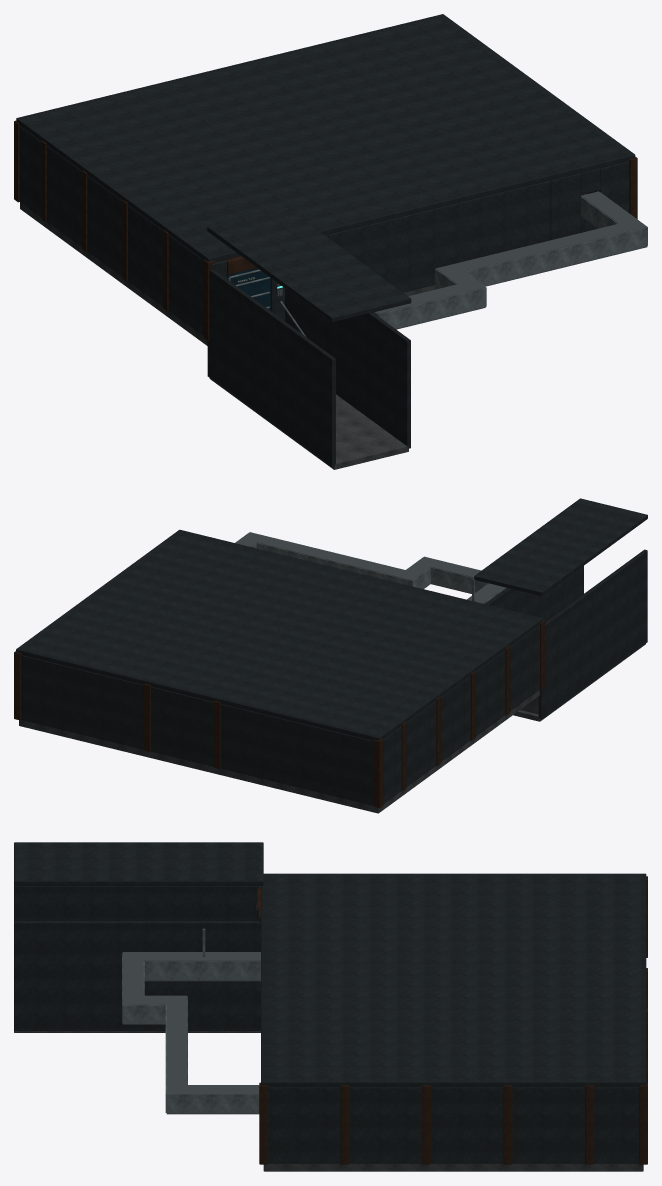
File: Porao_e_Sala_Secreta.glb
The picture shows the model from 3 angles, top to bottom: view 1: azimuth 30°, elevation 25°; view 2: azimuth 150°, elevation 25°; view 3: azimuth 270°, elevation 25°; orthographic projection. The views are drawn at different scales.
Visible parts, largest first — view 1: Teto_porao, Parede_corredor_oeste, Parede_estrutural, Parede_sul.001, Teto_escadaria, Parede_corredor_leste, Duto_tampa, Duto_parede.003, Laje_corredor, Duto_parede.001, Parede_sul.002, Laje_porao (+2 smaller); view 2: Teto_porao, Parede_estrutural.001, Parede_corredor_oeste, Parede_estrutural, Teto_escadaria, Laje_porao, Duto_tampa, Parede_corredor_leste, Duto_parede.006, Duto_parede.008, Pilar.005, Pilar.017 (+2 smaller); view 3: Teto_porao, Parede_estrutural.002, Parede_corredor_leste, Teto_escadaria, Parede_corredor_oeste, Duto_tampa, Laje_porao, Duto_parede.009, Duto_parede.004, Duto_parede.002, Pilar.013, Pilar.015 (+4 smaller).
Boxes of the visible parts, x1,y1,x2,y2 form: Teto_porao: [16, 14, 635, 262]; Parede_corredor_oeste: [207, 269, 335, 467]; Parede_estrutural: [19, 126, 203, 336]; Parede_sul.001: [328, 180, 550, 292]; Teto_escadaria: [207, 207, 411, 322]; Parede_corredor_leste: [285, 288, 410, 448]; Duto_tampa: [376, 191, 646, 313]; Duto_parede.003: [465, 227, 647, 285]; Laje_corredor: [209, 378, 408, 469]; Duto_parede.001: [378, 288, 486, 328]; Parede_sul.002: [550, 173, 580, 239]; Laje_porao: [20, 202, 435, 345]; Teto_porao: [16, 529, 542, 740]; Parede_estrutural.001: [21, 655, 373, 805]; Parede_corredor_oeste: [538, 549, 647, 719]; Parede_estrutural: [383, 625, 539, 803]; Teto_escadaria: [474, 498, 647, 596]; Laje_porao: [19, 690, 539, 813]; Duto_tampa: [235, 532, 504, 603]; Parede_corredor_leste: [485, 566, 583, 621]; Duto_parede.006: [256, 543, 412, 586]; Duto_parede.008: [431, 567, 488, 593]; Pilar.005: [373, 738, 383, 807]; Pilar.017: [14, 651, 20, 720]; Teto_porao: [261, 873, 646, 1087]; Parede_estrutural.002: [268, 1087, 639, 1163]; Parede_corredor_leste: [14, 921, 260, 1030]; Teto_escadaria: [14, 842, 263, 885]; Parede_corredor_oeste: [14, 885, 258, 920]; Duto_tampa: [123, 952, 260, 1094]; Laje_porao: [263, 1163, 643, 1171]; Duto_parede.009: [144, 961, 260, 980]; Duto_parede.004: [166, 1094, 259, 1113]; Duto_parede.002: [123, 1004, 165, 1023]; Pilar.013: [340, 1085, 349, 1164]; Pilar.015: [503, 1085, 512, 1164].
Size of the model in its own units: 18.32 by 6.23 by 23.36.
21 materials, 12 textured.
